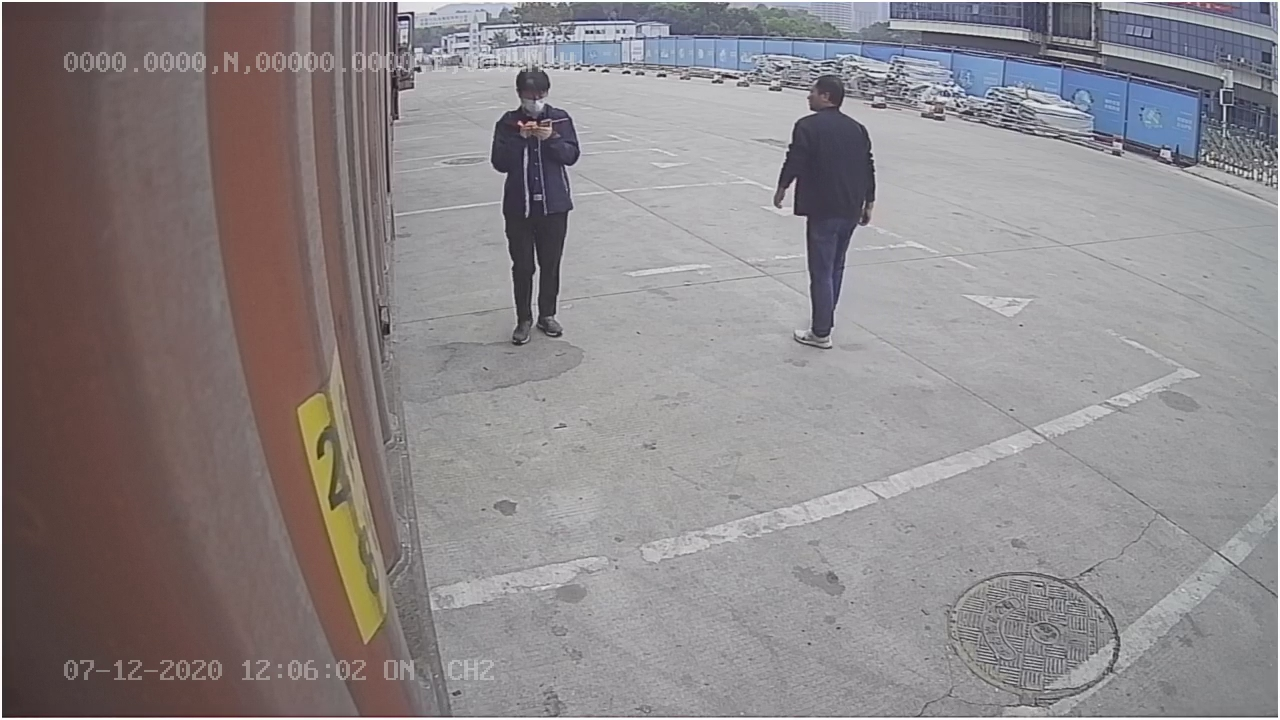person: (772, 71, 881, 349), (487, 64, 580, 346)
